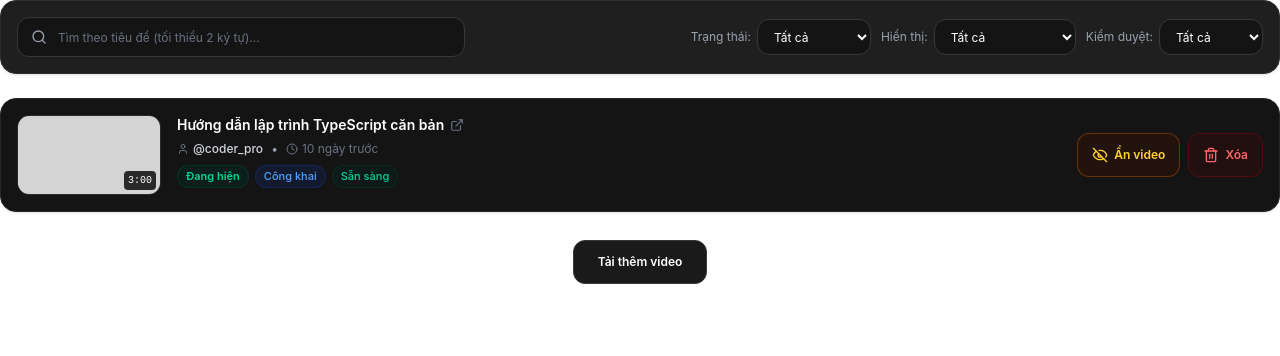
Test case: ADMV1 (ADR-047): Admin Videos & Watch-Page Moderation Actions › 3. Cursor Pagination › shows "Tải thêm video" button when next_cursor is present and appends items on click
The width and height of the screenshot is (1280, 356).
What coordinates should you click on to do the following:
click the button with test id "admin-videos-load-more-btn"
I would click on:
 (640, 262)
Its box is [573,240,707,284].
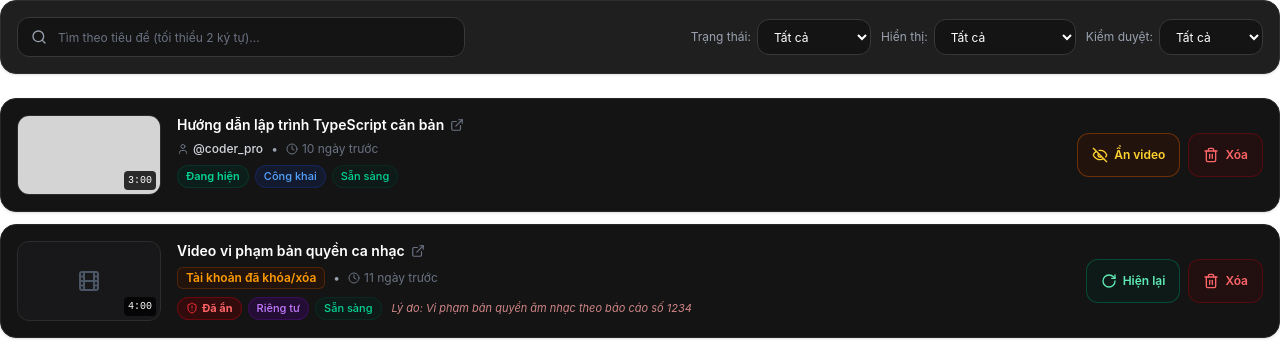
Expected: the button with test id "admin-videos-load-more-btn" is gone
Expected: the text "Video vi phạm bản quyền ca nhạc" is shown, [177,241,405,261]
